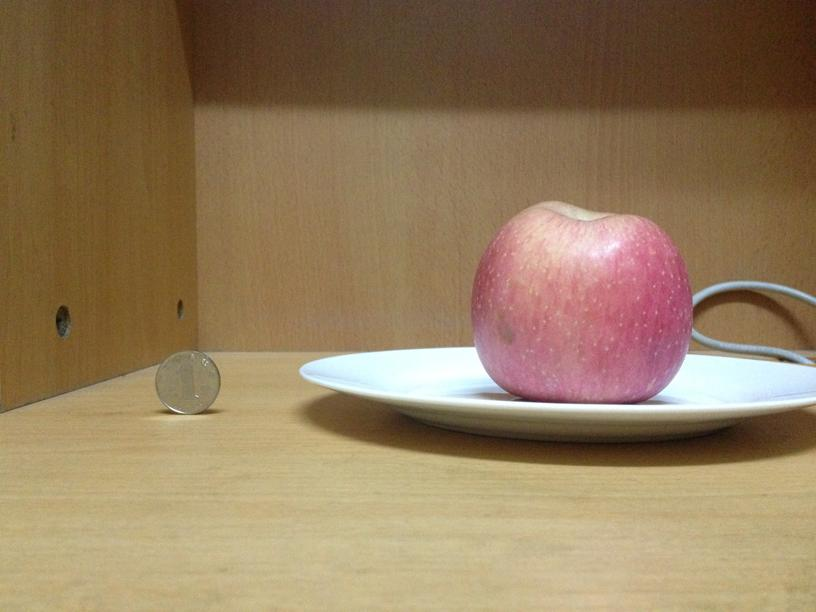apple: (474, 199, 692, 402)
coin: (154, 348, 222, 416)
